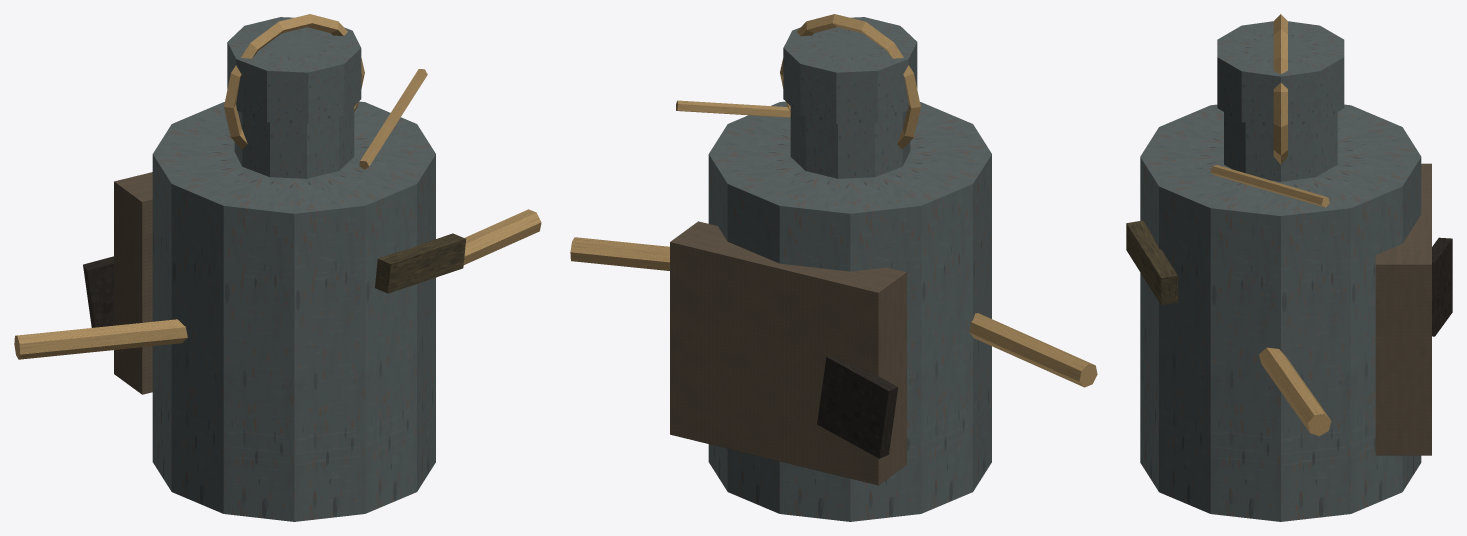
File: pr-007_metal_canteen__full.obj
The picture shows the model from 3 angles, left to right: view 1: azimuth 30°, elevation 25°; view 2: azimuth 150°, elevation 25°; view 3: azimuth 270°, elevation 25°; orthographic projection.
Parts seen in each view (by area): view 1: pr-007_metal_canteen__full; view 2: pr-007_metal_canteen__full; view 3: pr-007_metal_canteen__full.
Part boxes in pixels (box(x1,y1,x2,y2)): pr-007_metal_canteen__full: box(14, 14, 541, 521); pr-007_metal_canteen__full: box(570, 14, 1097, 521); pr-007_metal_canteen__full: box(1126, 14, 1452, 521).
Size of the model in its own units: 0.31 by 0.2524 by 0.1692.
Materials: 6 (6 with a texture image).
